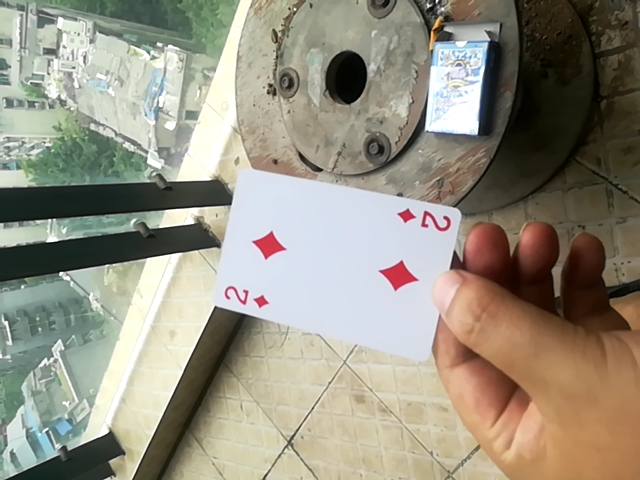fk 2: (202, 163, 471, 365)
